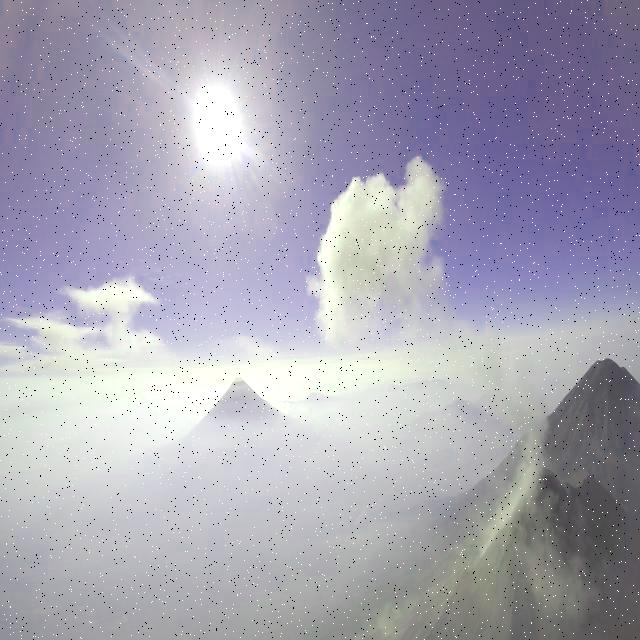Plume: (301, 150, 455, 348)
Summit: (414, 455, 630, 640)
